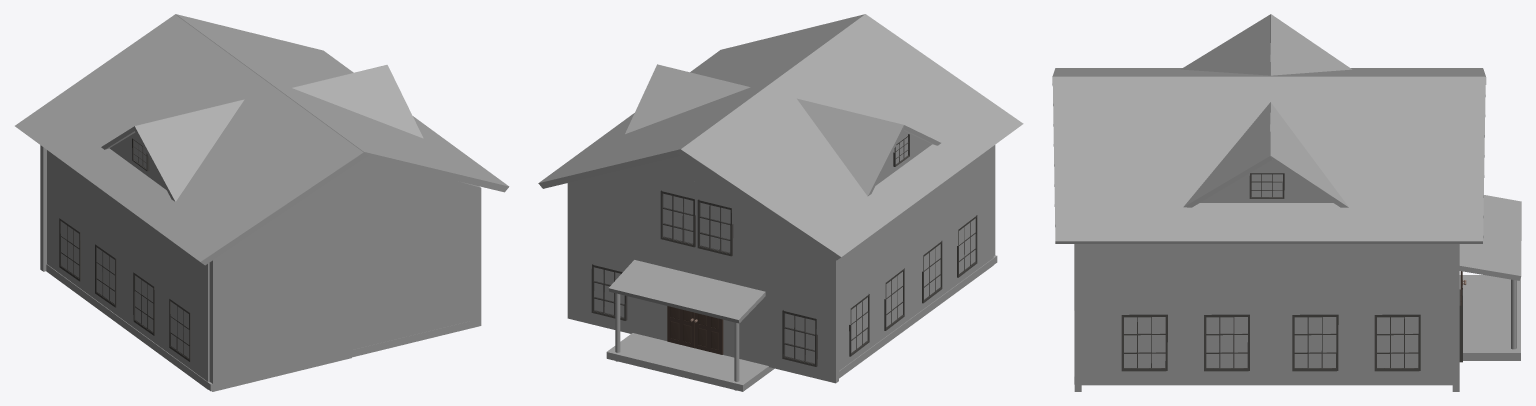
File: harong3.fbx
The picture shows the model from 3 angles, left to right: view 1: azimuth 30°, elevation 25°; view 2: azimuth 150°, elevation 25°; view 3: azimuth 270°, elevation 25°; orthographic projection. The views are drawn at different scales.
Parts seen in each view (by area): view 1: pCube7, pCube36, pCube32, pCube11, pCube6, pCube45, pCube10, pCube53, pCube51, pCube52, pCube50, pCube55 (+2 smaller); view 2: pCube7, pCube33, pCube11, pCube31, pCube6, pCube46, pCube47, pCube48, pCube49, pCube42, pCube41, pCube24 (+8 smaller); view 3: pCube6, pCube13, pCube45, pCube46, pCube48, pCube47, pCube7, pCube28, pCube35, pCube29, pCube54, pCube34 (+4 smaller).
Part boxes in pixels (x1,y1,x2,y2): pCube7: (15,14,368,265); pCube36: (209,166,353,391); pCube32: (352,159,481,357); pCube11: (46,150,209,389); pCube6: (175,14,509,192); pCube45: (133,65,423,201); pCube10: (46,264,469,391); pCube53: (59,218,80,281); pCube51: (133,272,154,335); pCube52: (95,244,116,307); pCube50: (169,299,190,361); pCube55: (109,132,166,189); pCube7: (677,14,1023,260); pCube33: (694,165,838,383); pCube11: (839,146,993,378); pCube31: (567,156,695,340); pCube6: (538,14,865,188); pCube46: (625,64,903,196); pCube47: (608,260,765,323); pCube48: (606,333,774,391); pCube49: (697,199,733,256); pCube42: (660,190,695,247); pCube41: (782,310,817,366); pCube24: (591,264,627,320); pCube6: (1052,76,1485,243); pCube13: (1081,244,1452,385); pCube45: (1180,14,1272,207); pCube46: (1270,14,1351,207); pCube48: (1459,275,1520,360); pCube47: (1459,195,1521,280); pCube7: (1052,68,1486,84); pCube28: (1292,314,1338,371); pCube35: (1121,314,1167,371); pCube29: (1374,314,1420,371); pCube54: (1200,161,1332,202); pCube34: (1204,314,1249,371).
Bounding box in the file's own units: 15.46 × 10.49 × 17.68.
